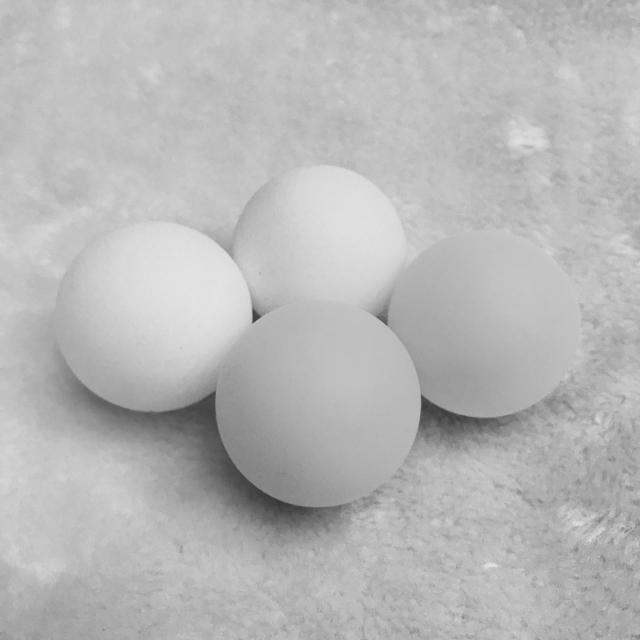ping-pong-ball: (206, 295, 426, 513), (381, 224, 586, 426), (49, 218, 256, 414), (228, 162, 410, 332)
